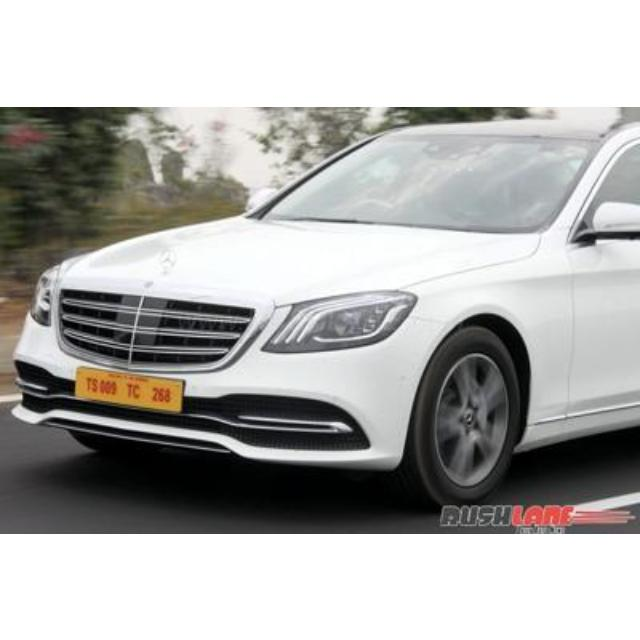car: (1, 118, 639, 506)
plate: (78, 367, 180, 415)
